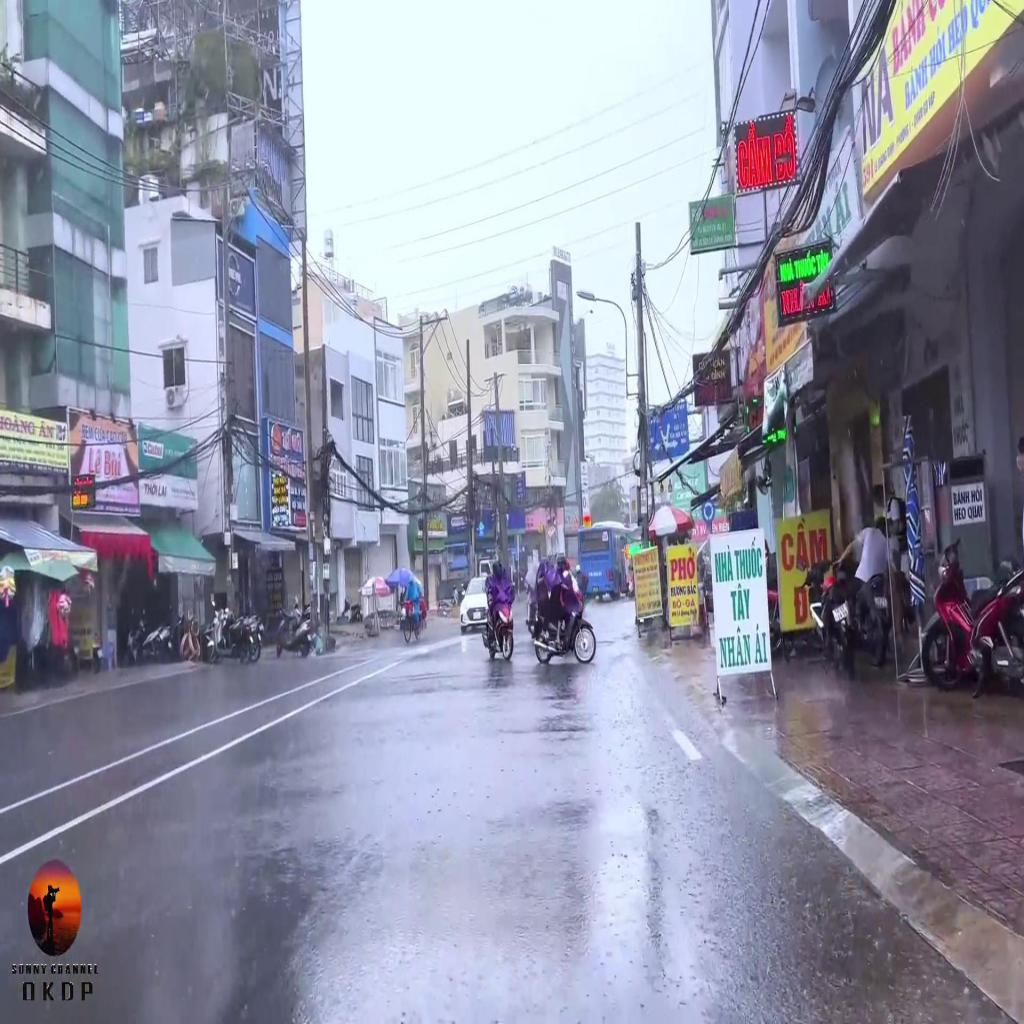noi_giao_nhau_chay_theo_vong: (701, 498, 715, 523)
